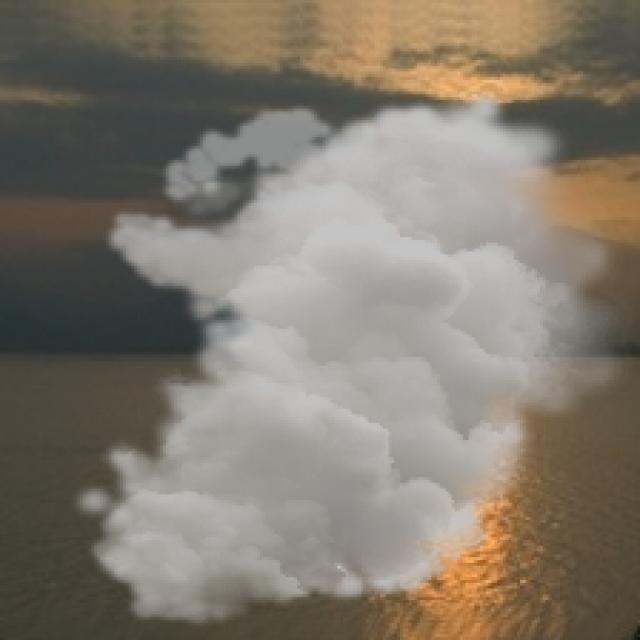smoke: (69, 89, 637, 628)
